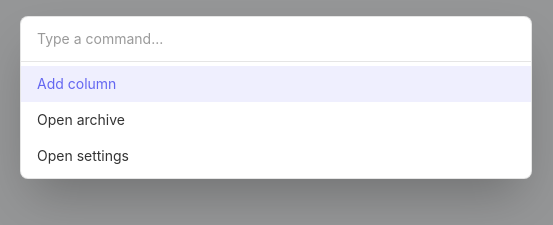
Scenario: CommandPalette › shows no matching commands message
This screenshot has width=553, height=225.
Type "xyznonexistent" into the field with test id "command-palette-input" at (276, 40), box [21,17,531,62]
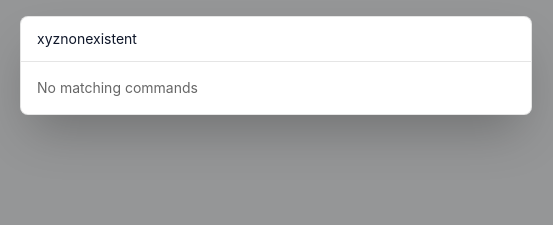
Expected: the list item "No matching commands" is shown, [37,79,198,96]
